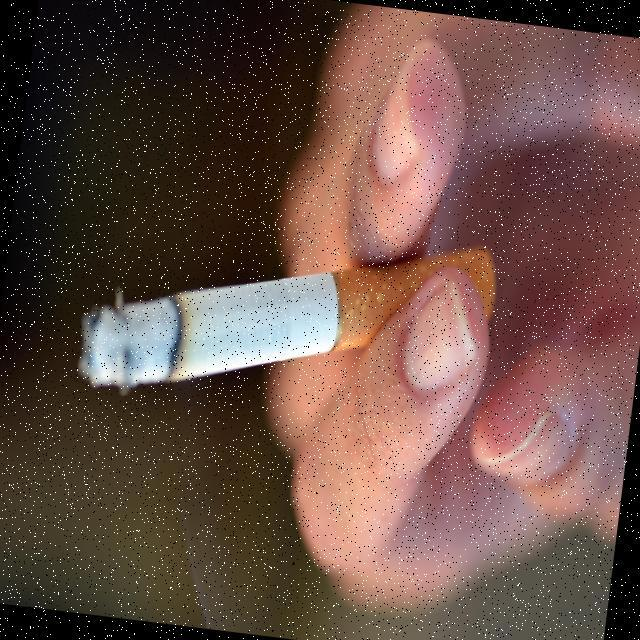cigarette: (72, 224, 480, 445)
